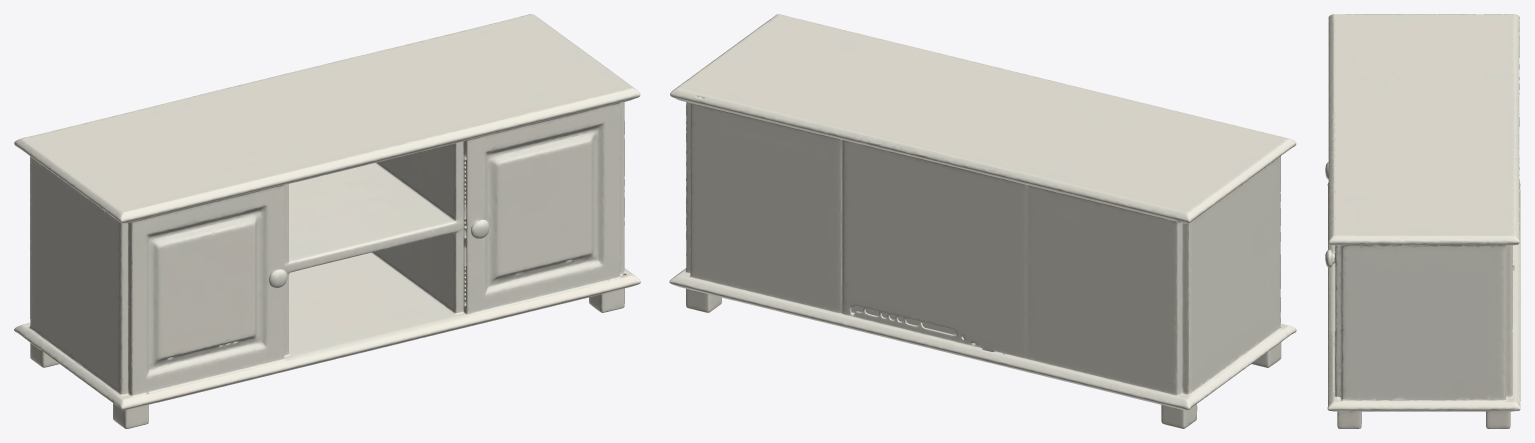
The model's file is TVstand.glb.
The picture shows the model from 3 angles, left to right: view 1: azimuth 30°, elevation 25°; view 2: azimuth 150°, elevation 25°; view 3: azimuth 270°, elevation 25°; orthographic projection. The views are drawn at different scales.
Parts seen in each view (by area): view 1: world; view 2: world; view 3: world.
Part boxes in pixels (x1,y1,x2,y2): world: [14, 14, 640, 428]; world: [669, 14, 1296, 428]; world: [1325, 14, 1520, 428].
Bounding box in the file's own units: 1 × 0.4062 × 0.3666.
1 material, 1 textured.
